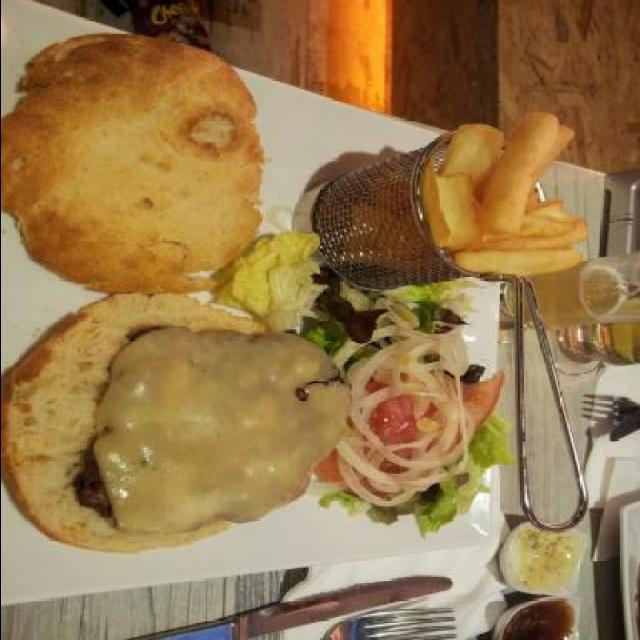French fries: (430, 103, 592, 294)
